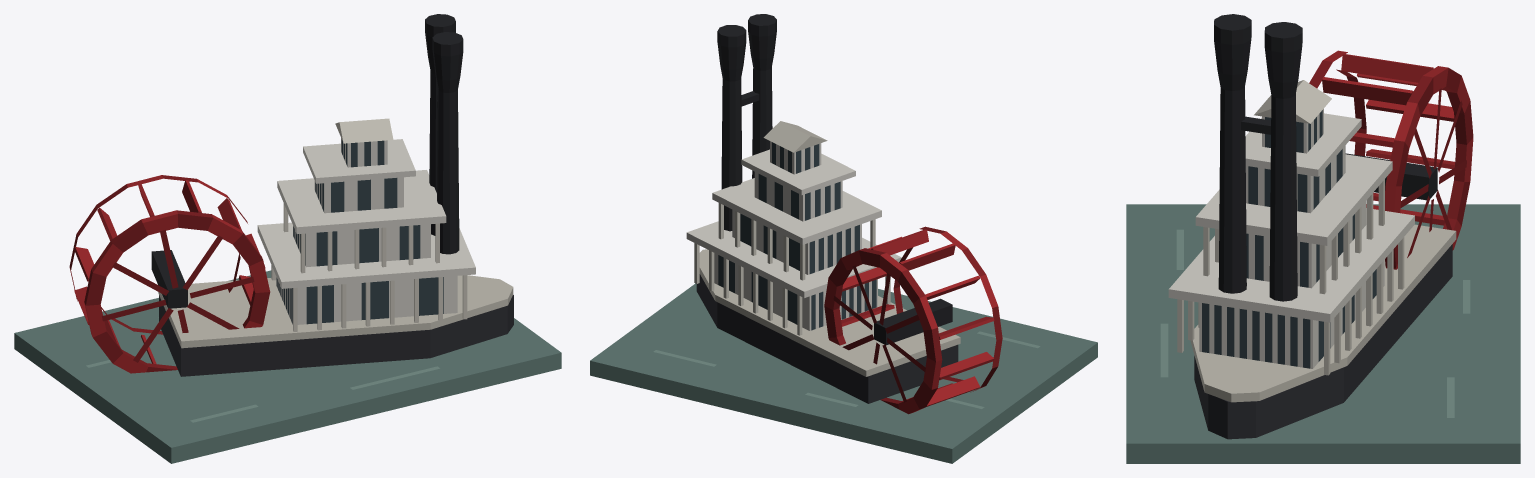
Rendered from bateauVapeur.glb.
3 renders of one model, left to right at view 1: azimuth 30°, elevation 25°; view 2: azimuth 150°, elevation 25°; view 3: azimuth 270°, elevation 25°, orthographic. The views are drawn at different scales.
Visible parts, largest first — view 1: bateauVapeur; view 2: bateauVapeur; view 3: bateauVapeur.
Boxes of the visible parts, box(x1,y1,x2,y2) form: bateauVapeur: box(14, 14, 561, 463); bateauVapeur: box(590, 14, 1097, 463); bateauVapeur: box(1126, 14, 1520, 463).
Size of the model in its own units: 1.78 by 1.38 by 1.24.
